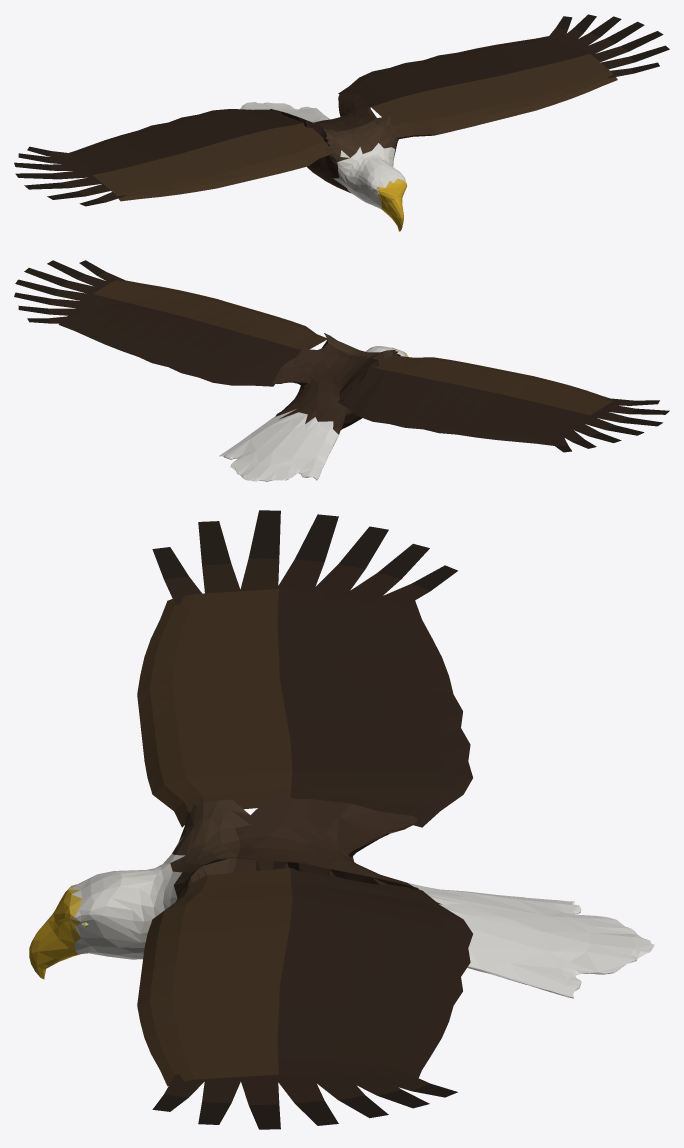
File: bald_eagle.glb
3 views of the same model, one above another, from view 1: azimuth 30°, elevation 25°; view 2: azimuth 150°, elevation 25°; view 3: azimuth 270°, elevation 25° (orthographic). The views are drawn at different scales.
Parts seen in each view (by area): view 1: lod0; view 2: lod0; view 3: lod0.
Part boxes in pixels (box(x1,y1,x2,y2)): lod0: box(14, 14, 669, 231); lod0: box(14, 260, 669, 481); lod0: box(29, 510, 654, 1129).
Size of what is drawn, in the model's own units: 1.99 by 0.2399 by 0.8499.
